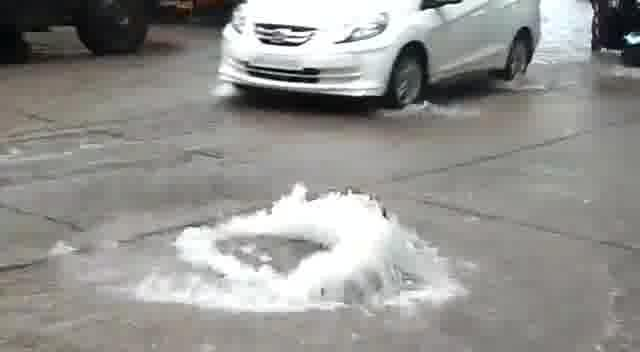drainage_overflow: (145, 183, 407, 315)
